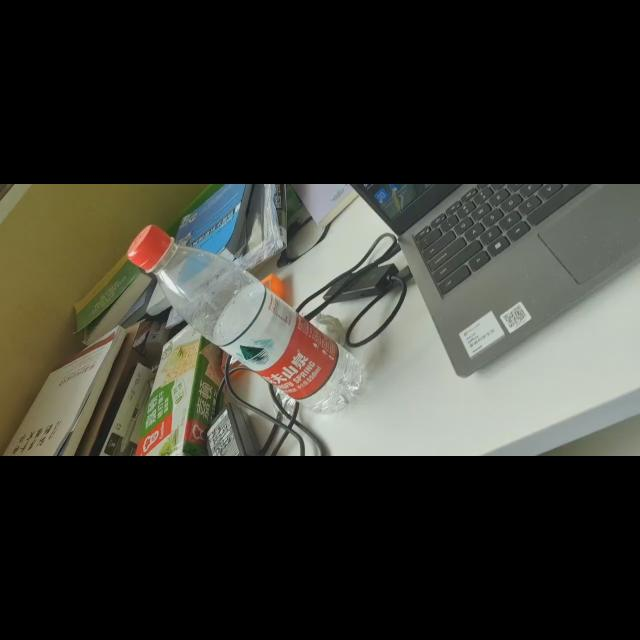trash: (126, 224, 366, 418)
